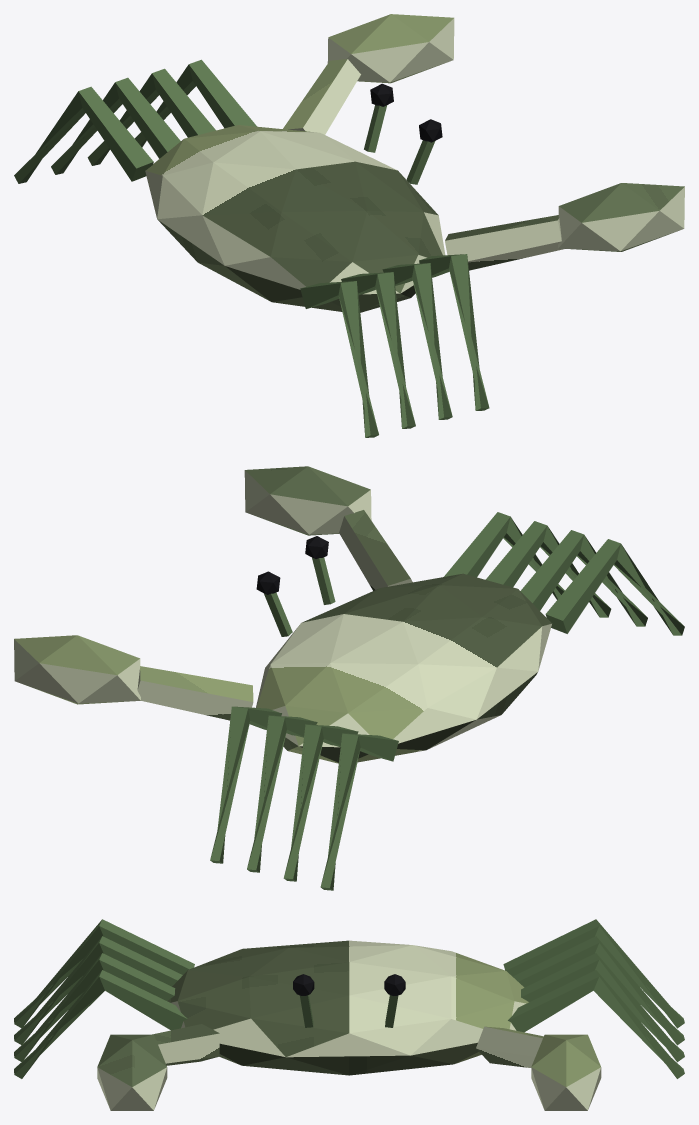
File: velvet_swimmer_crab.glb
3 views of the same model, one above another, from view 1: azimuth 30°, elevation 25°; view 2: azimuth 150°, elevation 25°; view 3: azimuth 270°, elevation 25° (orthographic). The views are drawn at different scales.
Parts seen in each view (by area): view 1: fish_velvet_swimmer_crab; view 2: fish_velvet_swimmer_crab; view 3: fish_velvet_swimmer_crab.
Part boxes in pixels (<box>): fish_velvet_swimmer_crab: <box>14,14,684,437</box>; fish_velvet_swimmer_crab: <box>14,466,684,890</box>; fish_velvet_swimmer_crab: <box>14,919,684,1110</box>.
Bounding box in the file's own units: 0.7228 × 0.2887 × 1.17.
3 materials, 1 textured.
